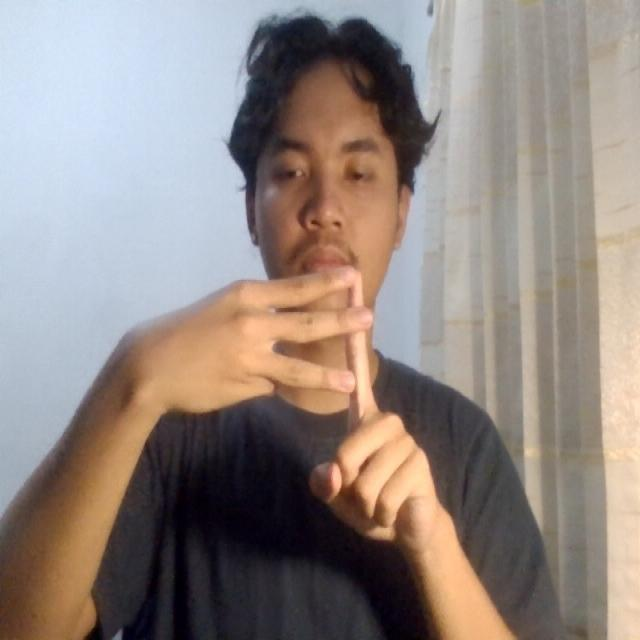B: (157, 247, 451, 573)
